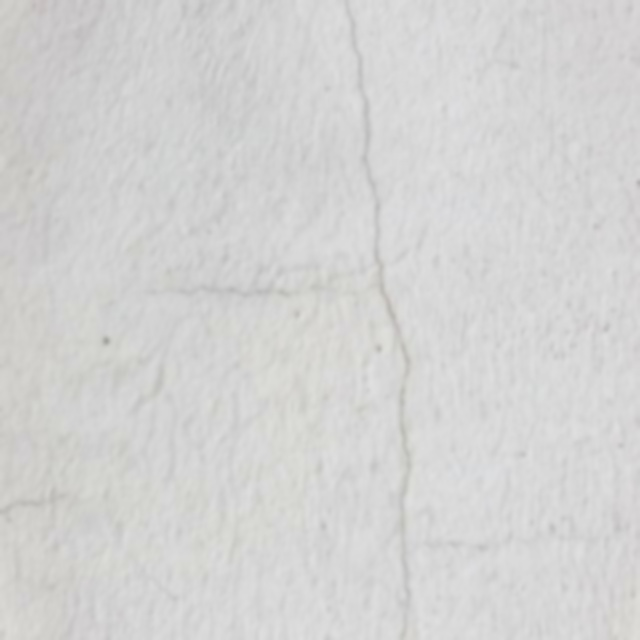SurfaceCrack: (316, 0, 464, 640)
